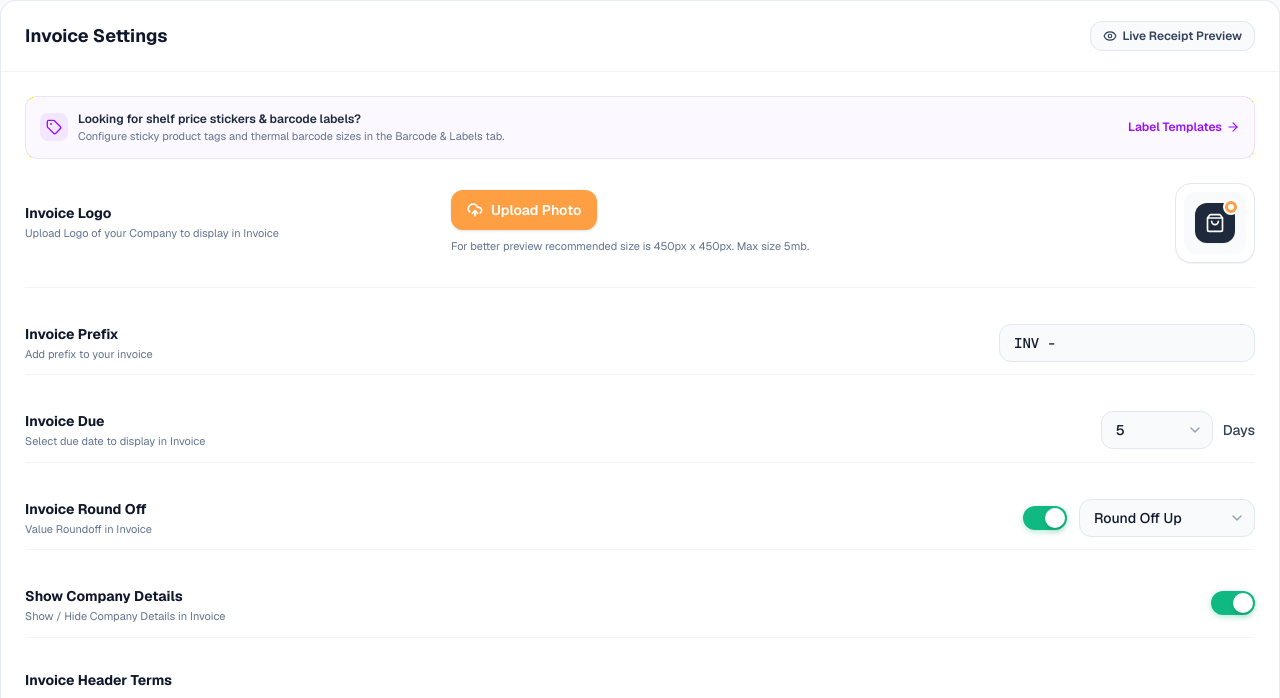
Test: InvoiceSettingsView Component › toggles Live Receipt Simulator preview
The width and height of the screenshot is (1280, 698).
Click the button "Live Receipt Preview": [1172, 36] box [1090, 21, 1255, 51]
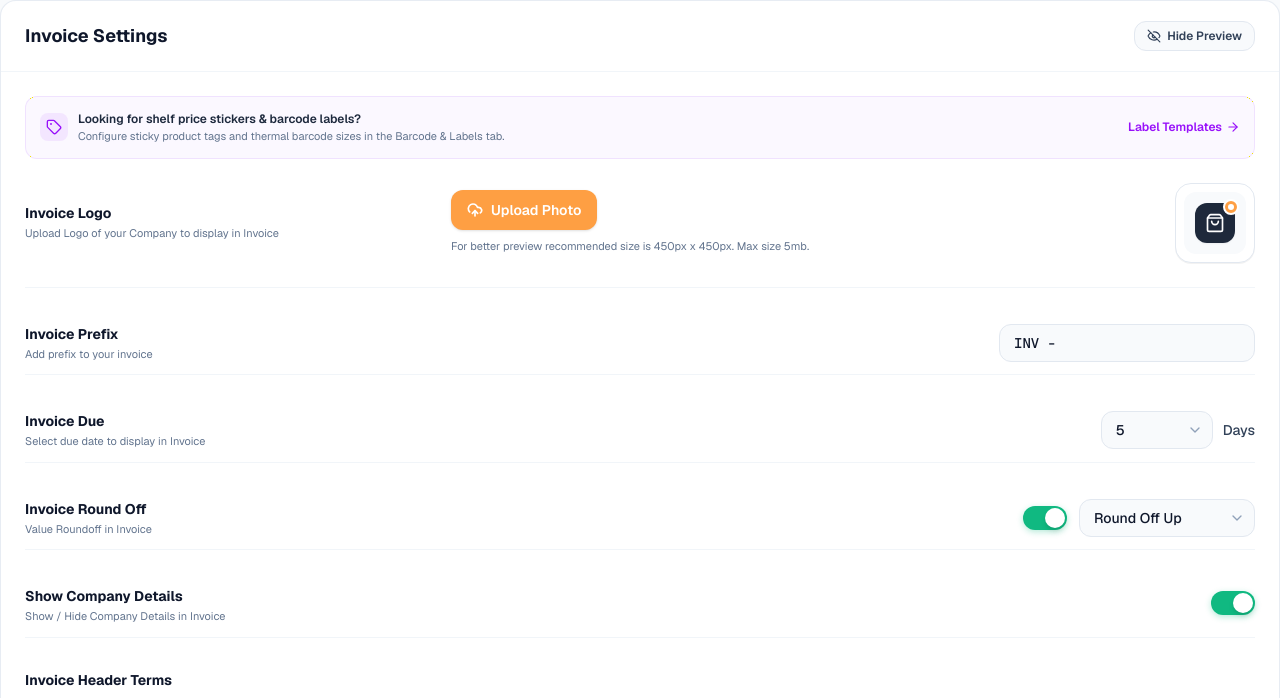
Expected: the text "Hide Preview" is shown, [1167, 28, 1242, 44]
